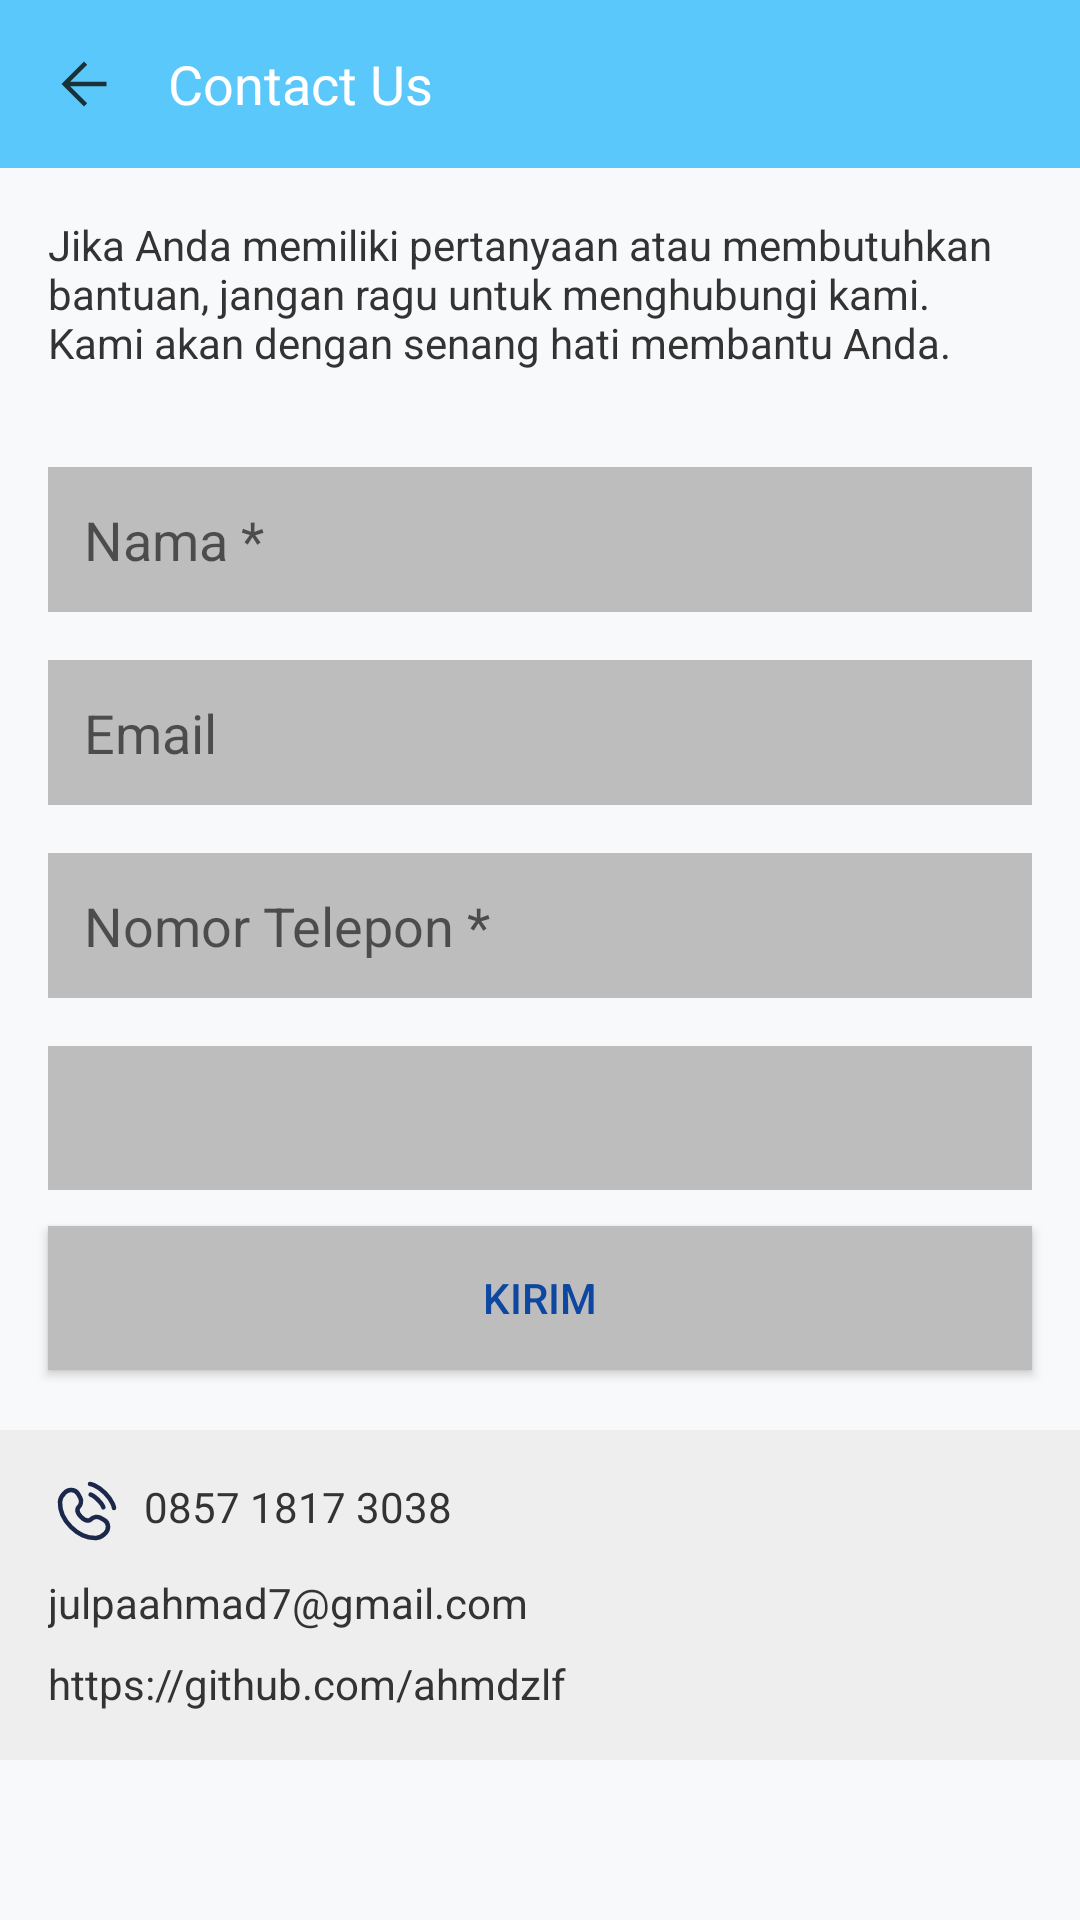

Where to tap for icons on this 1080w x 1920h app screen, as (x,y):
Back Button: (84,84)
